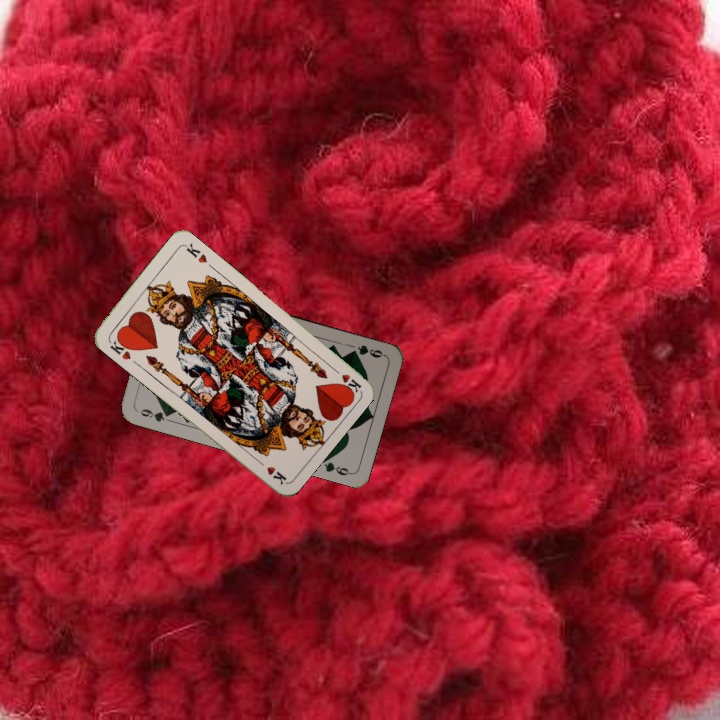G9: (346, 341, 387, 360), (136, 405, 174, 424)
HK: (327, 362, 363, 395), (105, 333, 135, 362)
